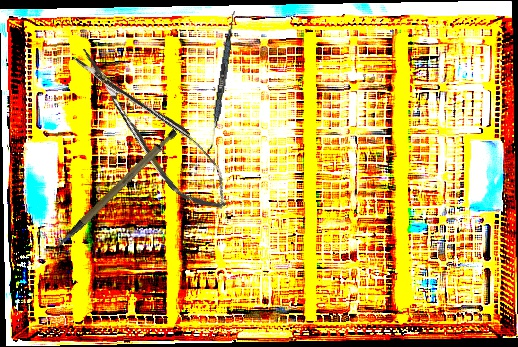Micro Scissor: (64, 32, 241, 226)
Scalpel Handle: (40, 127, 191, 248)
Spatula Surgical: (208, 10, 236, 154)
